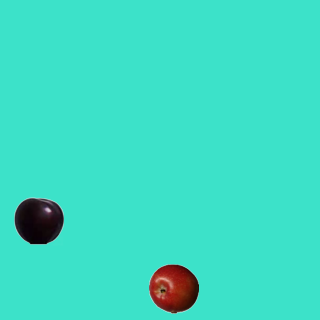Apple Braeburn: (148, 263, 198, 313)
Cherry Wax Black: (13, 195, 63, 245)
